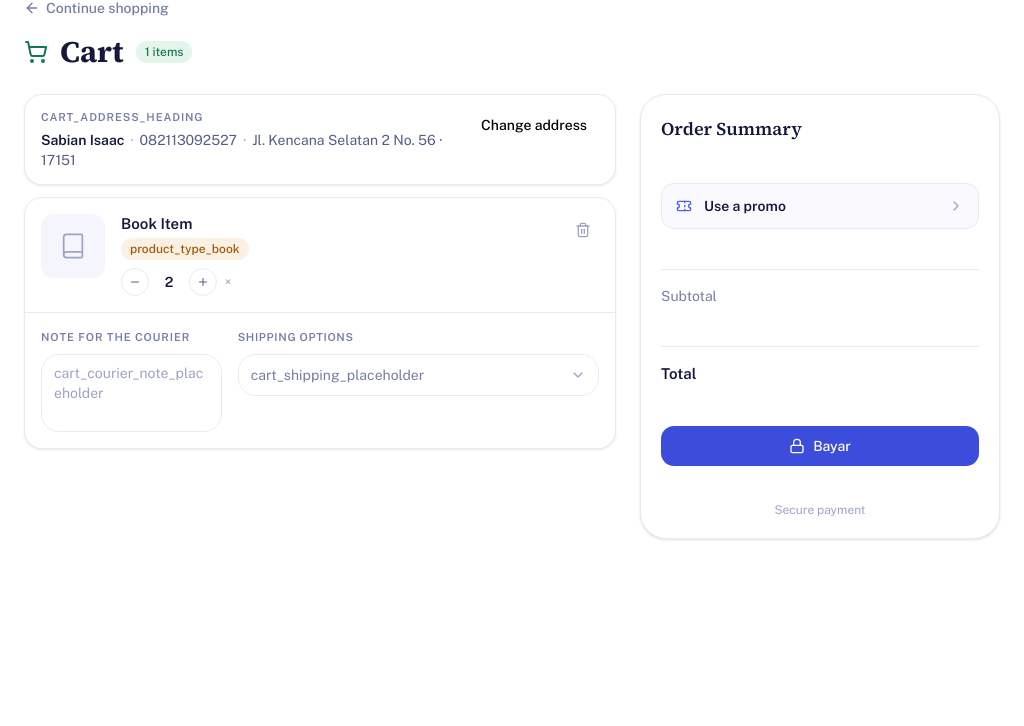
CartPage with Shipping › stale shipping quote guard (#97) › clears the rate list and courier selection on reload when only the postal code differs
The width and height of the screenshot is (1024, 726).
Step 1. Click the button "Change address" → (534, 125), box [469,109,599,141]
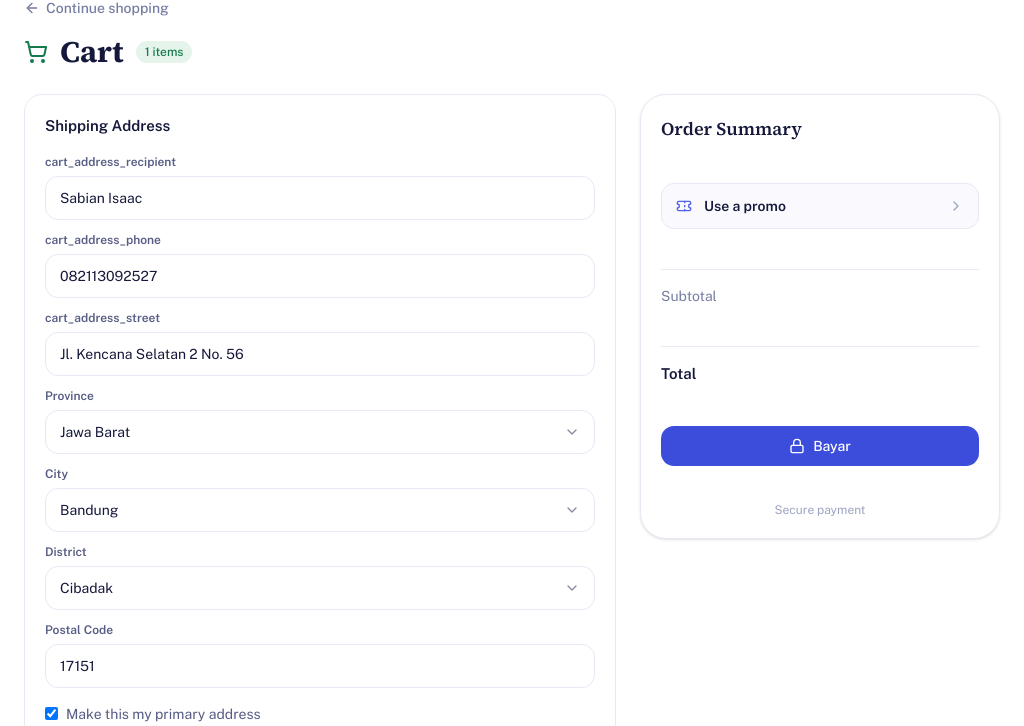
Step 2. Replace the text in the field labelled "Postal Code" with "40999" → (320, 666), box [45,644,595,688]
(page scrolled)
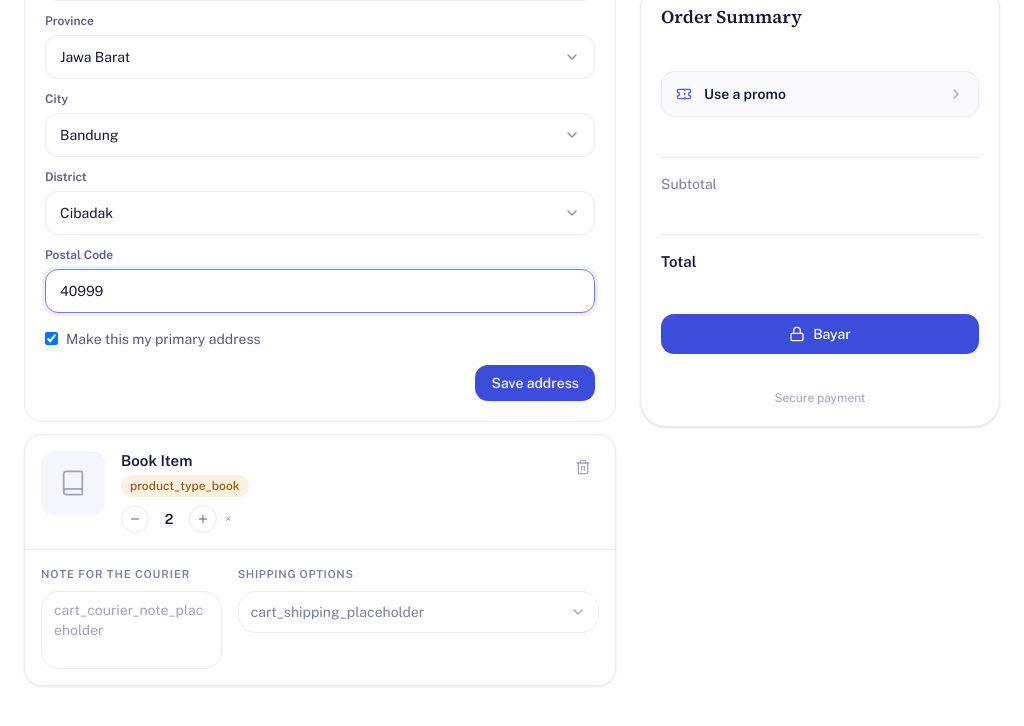
Step 3. Click the button "Save address" → (535, 382), box [476,364,595,400]
(page scrolled)
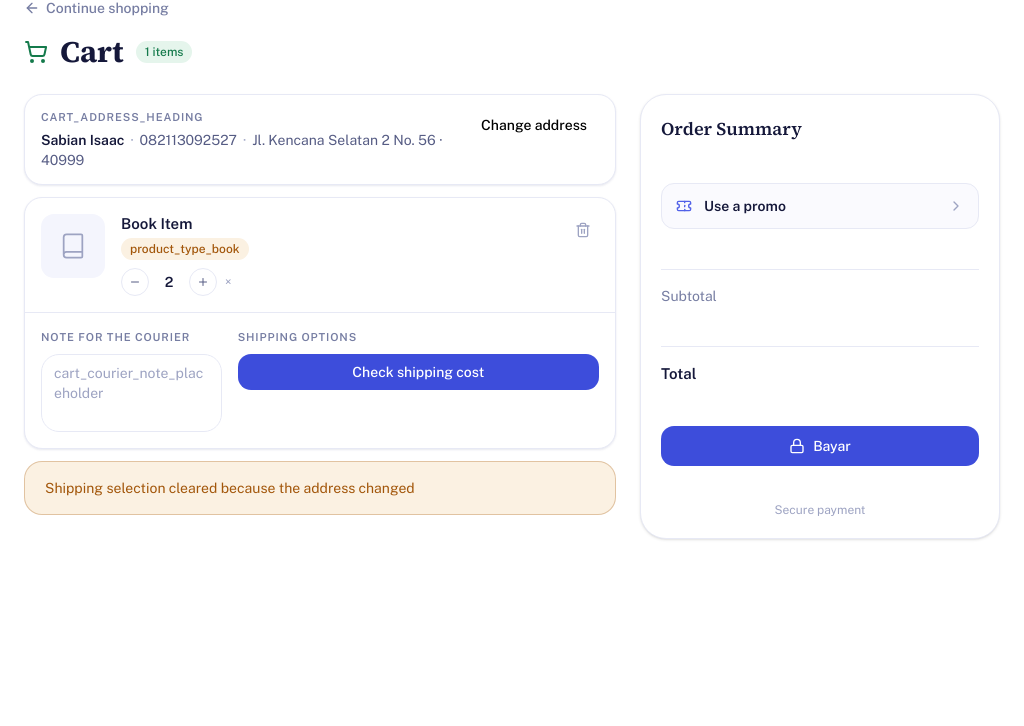
Result: the button "Check shipping cost" is shown at [238,354,599,390]
Result: the text "Shipping selection cleared because the address changed" is shown at [24,461,616,515]
